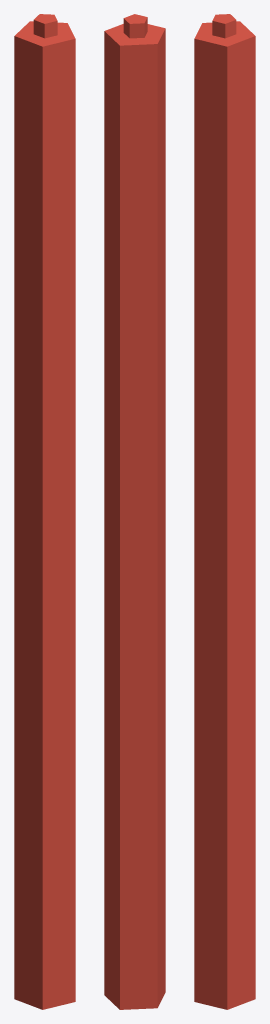
File: SM_Tripod_Wheels_Arm.fbx
3 views of the same model, side by side, from view 1: azimuth 30°, elevation 25°; view 2: azimuth 150°, elevation 25°; view 3: azimuth 330°, elevation 25° (orthographic).
Parts seen in each view (by area): view 1: SM_Tripod_Wheels_Arm; view 2: SM_Tripod_Wheels_Arm; view 3: SM_Tripod_Wheels_Arm.
Boxes of the visible parts, bbox=[...] form: SM_Tripod_Wheels_Arm: bbox=[14, 14, 75, 1009]; SM_Tripod_Wheels_Arm: bbox=[104, 14, 165, 1009]; SM_Tripod_Wheels_Arm: bbox=[194, 14, 255, 1009].
Bounding box in the file's own units: 3.71 × 3.9 × 68.57.
